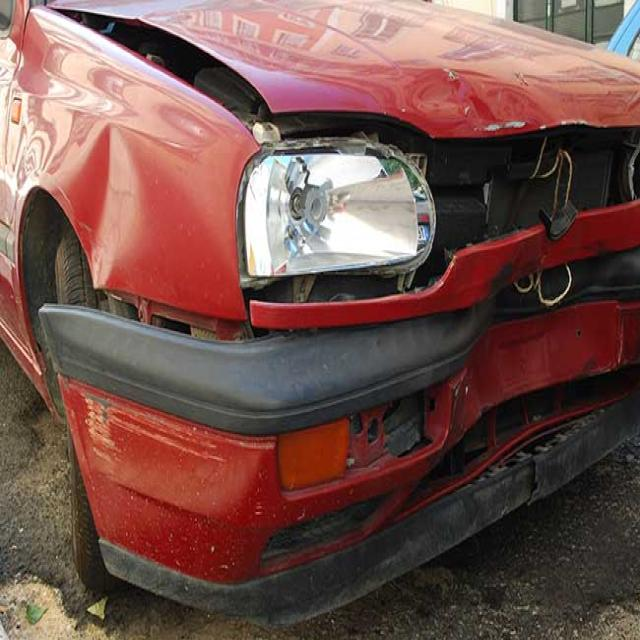crush: (24, 0, 640, 598)
